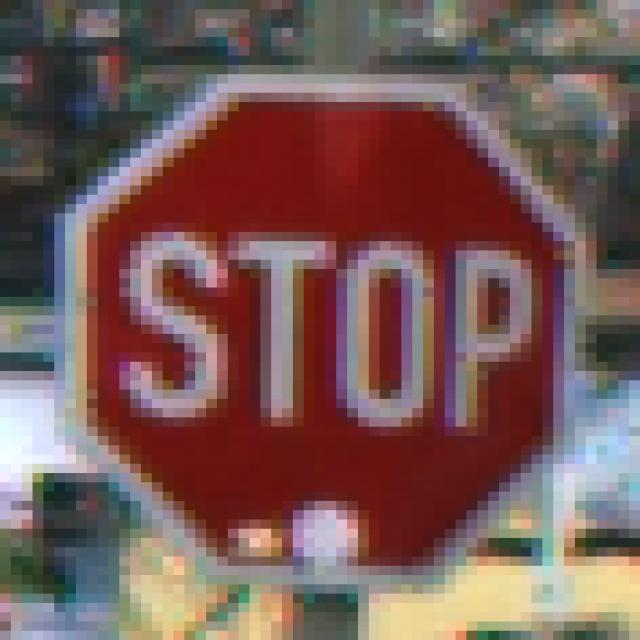STOP: (55, 66, 587, 585)
